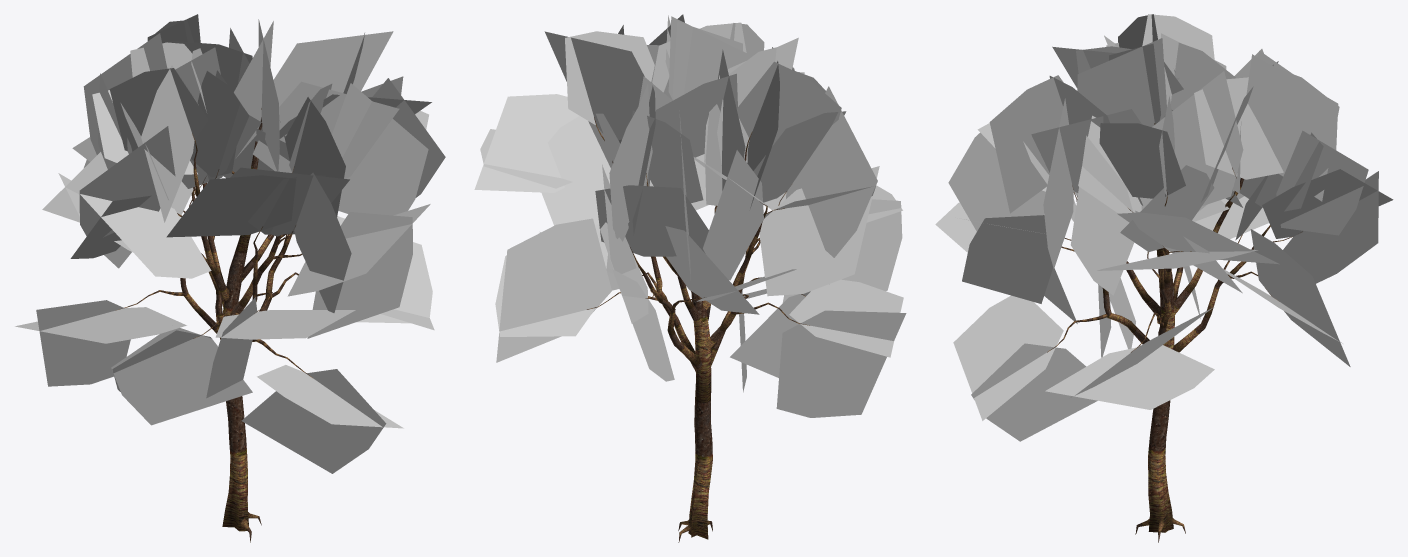
Rendered from Tree_Trop_3.fbx.
3 renders of one model, left to right at view 1: azimuth 30°, elevation 25°; view 2: azimuth 150°, elevation 25°; view 3: azimuth 270°, elevation 25°, orthographic.
Visible parts, largest first — view 1: LOD0; view 2: LOD0; view 3: LOD0.
Part boxes in pixels (x1=…): LOD0: x1=15, y1=14, x2=445, y2=542; LOD0: x1=474, y1=14, x2=906, y2=542; LOD0: x1=935, y1=14, x2=1393, y2=542.
Size of what is drawn, in the model's own units: 13.24 by 15.89 by 13.
